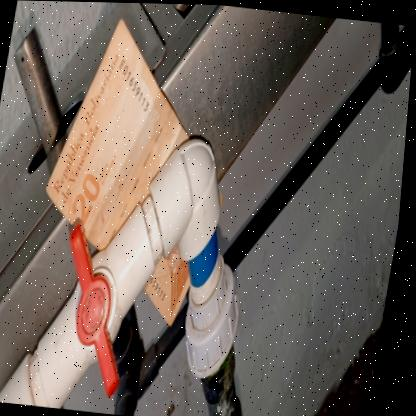twenty-back-vef: (28, 10, 236, 327)
